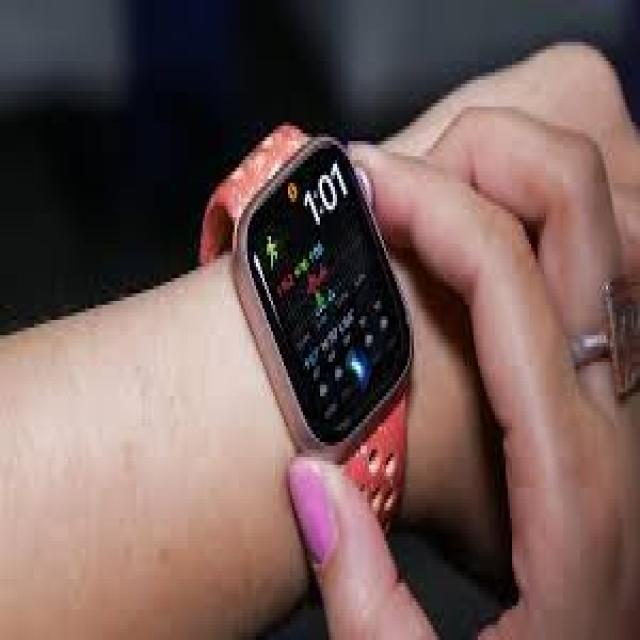objects: (202, 124, 413, 492)
